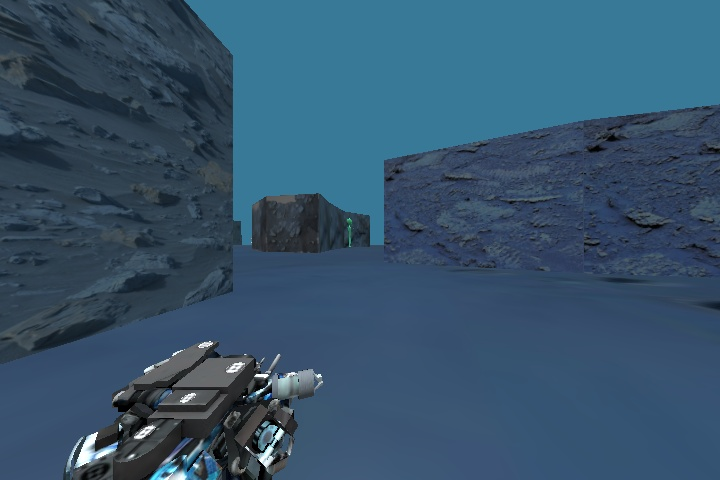green_alien: (343, 213, 361, 251)
